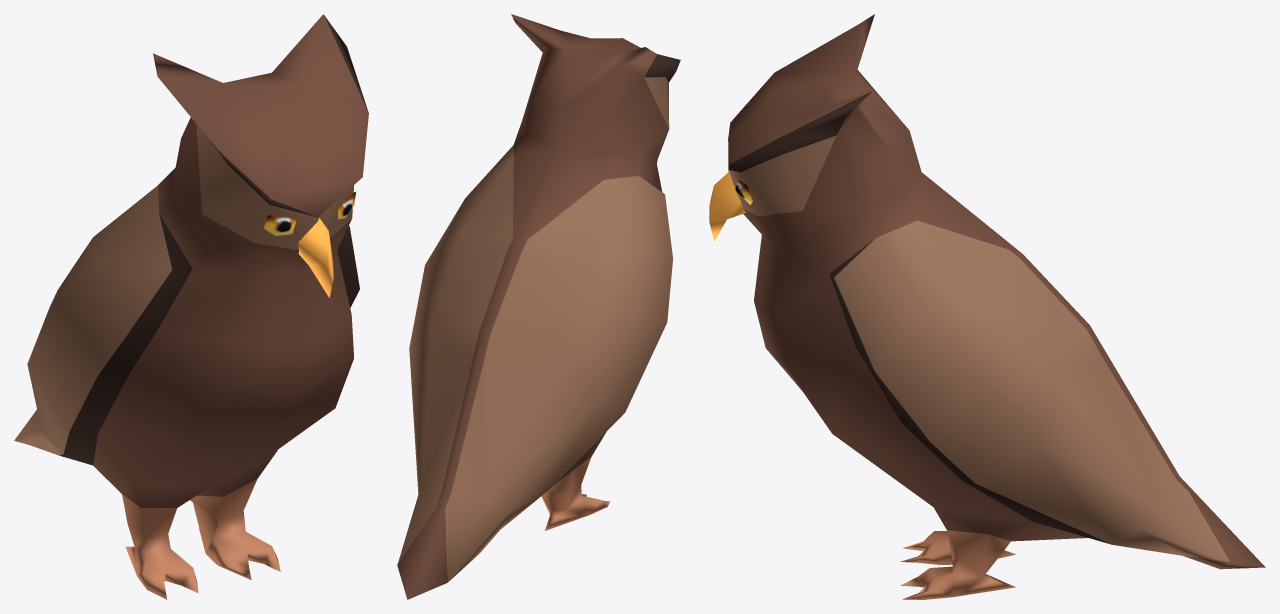
File: Owl01.glb
3 views of the same model, side by side, from view 1: azimuth 30°, elevation 25°; view 2: azimuth 150°, elevation 25°; view 3: azimuth 270°, elevation 25° (orthographic). The views are drawn at different scales.
Parts seen in each view (by area): view 1: Owl01; view 2: Owl01; view 3: Owl01.
Part boxes in pixels (x1,y1,x2,y2): Owl01: [14, 14, 368, 599]; Owl01: [397, 14, 680, 599]; Owl01: [709, 14, 1265, 599].
Size of what is drawn, in the model's own units: 0.3527 by 0.715 by 0.6921.
Materials: 1 (1 with a texture image).
